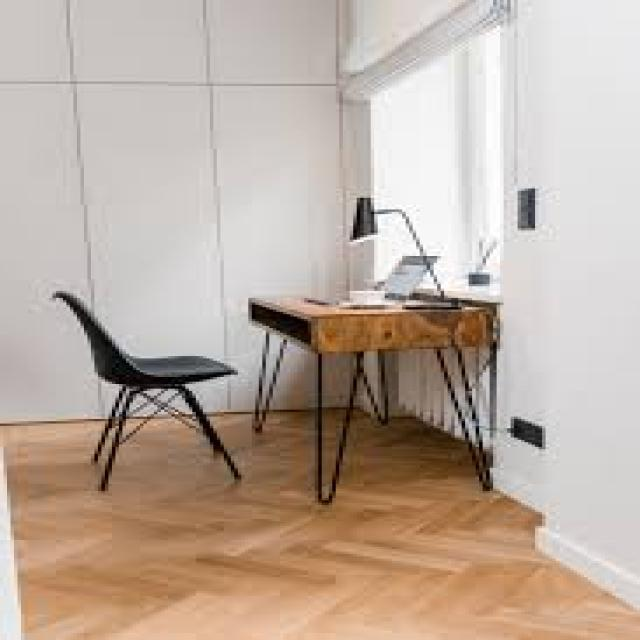obstacle: (37, 255, 280, 507)
